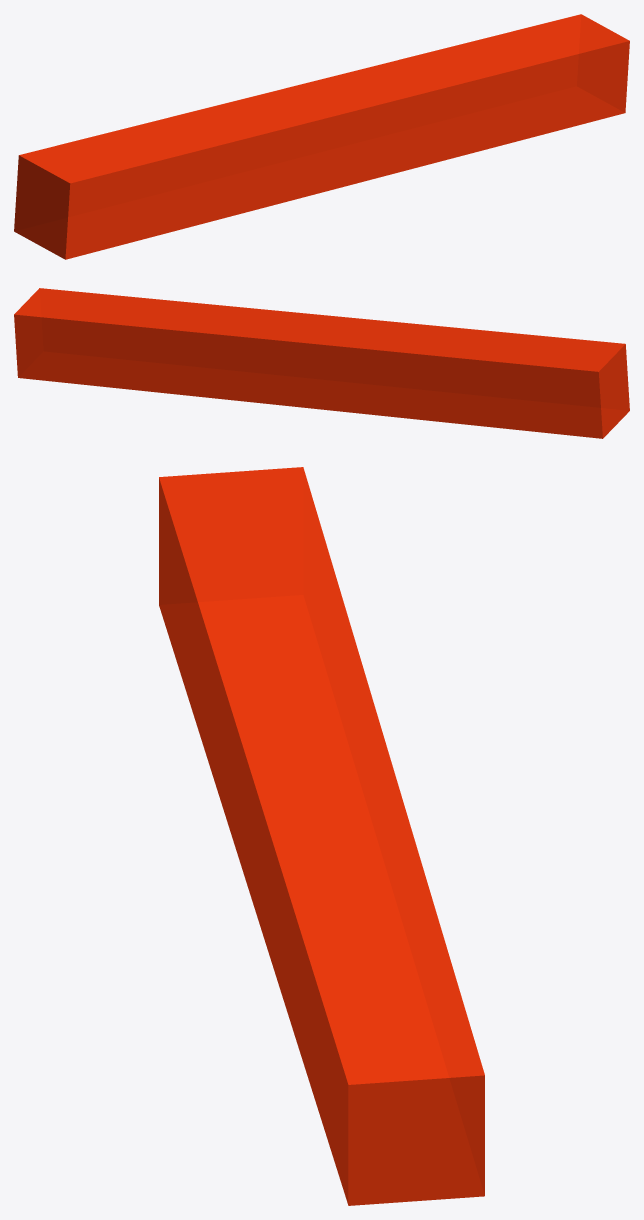
File: Event_421364160_EErechit_7.fbx
3 views of the same model, one above another, from view 1: azimuth 30°, elevation 25°; view 2: azimuth 150°, elevation 25°; view 3: azimuth 270°, elevation 25° (orthographic). The views are drawn at different scales.
Parts seen in each view (by area): view 1: Model; view 2: Model; view 3: Model.
Boxes of the visible parts, <box> form: Model: <box>14,14,629,259</box>; Model: <box>14,288,629,438</box>; Model: <box>159,467,484,1205</box>.
Bounding box in the file's own units: 0.6703 × 0.1207 × 0.1715.
